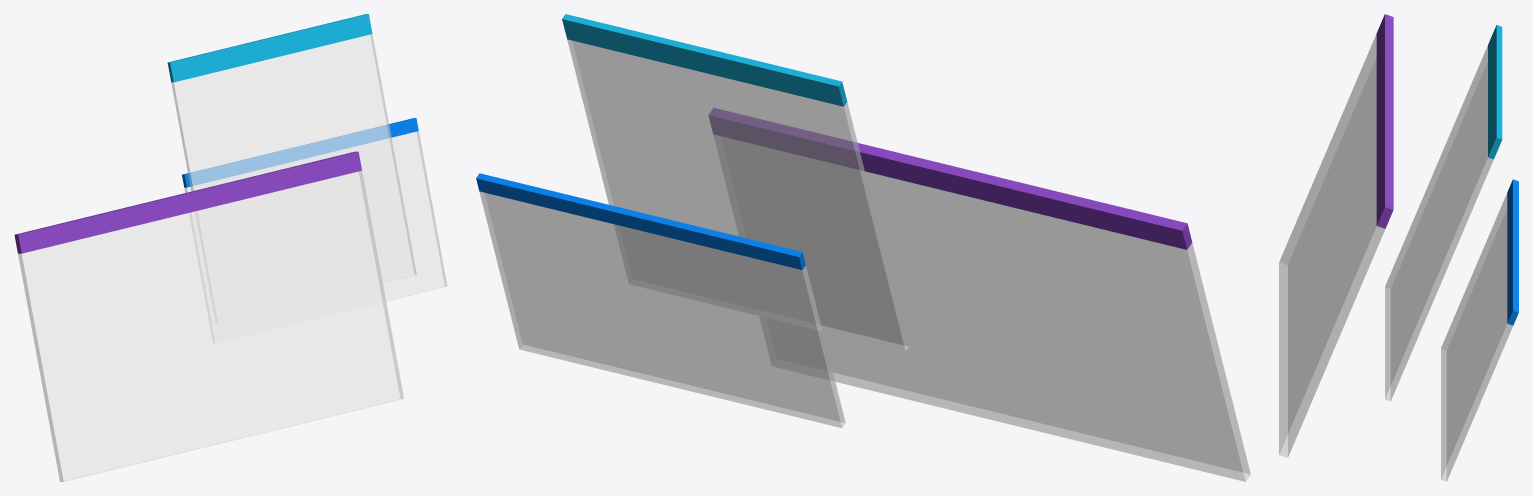
File: Windows2.glb
The picture shows the model from 3 angles, left to right: view 1: azimuth 30°, elevation 25°; view 2: azimuth 150°, elevation 25°; view 3: azimuth 270°, elevation 25°; orthographic projection. The views are drawn at different scales.
Visible parts, largest first — view 1: Plane.150, Plane.152, Plane.149; view 2: Plane.150, Plane.152, Plane.149; view 3: Plane.150, Plane.152, Plane.149.
Boxes of the visible parts, x1,y1,x2,y2 form: Plane.150: [14, 151, 403, 481]; Plane.152: [167, 14, 416, 322]; Plane.149: [182, 118, 447, 342]; Plane.150: [708, 108, 1250, 481]; Plane.152: [562, 14, 908, 351]; Plane.149: [476, 173, 845, 427]; Plane.150: [1279, 14, 1393, 457]; Plane.152: [1385, 25, 1502, 401]; Plane.149: [1441, 179, 1518, 481].
Bounding box in the file's own units: 4.14 × 2.66 × 1.63.
